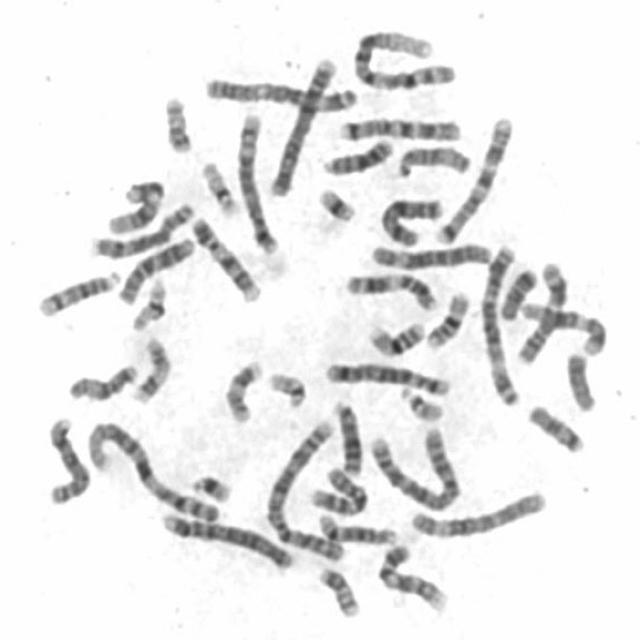A1: (80, 414, 224, 525), (348, 22, 460, 91)
A2: (260, 413, 348, 565), (362, 419, 464, 513)
A3: (474, 236, 525, 408), (197, 69, 360, 114)
B4: (261, 49, 339, 198), (155, 505, 297, 572)
B5: (230, 105, 282, 255), (318, 353, 453, 398)
C10: (112, 229, 197, 307), (302, 460, 371, 517)
C11: (510, 254, 570, 366), (339, 265, 441, 313)
C12: (515, 293, 608, 357), (101, 172, 167, 236)
C6: (404, 483, 549, 541), (363, 234, 494, 271)
C7: (428, 110, 516, 246), (333, 110, 464, 143)
C8: (84, 195, 197, 260), (39, 411, 93, 506)
C9: (184, 210, 263, 303), (371, 536, 451, 615)
D13: (316, 129, 396, 177), (326, 392, 364, 477)
D14: (31, 263, 124, 318), (312, 508, 400, 546)
D15: (62, 356, 141, 404), (389, 137, 474, 180)
E16: (419, 284, 472, 350), (361, 312, 428, 358)
E17: (125, 330, 174, 405), (218, 352, 266, 426)
E18: (521, 397, 587, 454), (494, 260, 540, 322)
F19: (195, 153, 241, 218), (125, 271, 168, 332)
F20: (312, 560, 362, 620), (156, 88, 195, 154)
G21: (311, 180, 359, 224), (185, 466, 234, 504)
G22: (393, 379, 446, 424), (261, 364, 309, 410)
X: (373, 189, 447, 249)
Y: (559, 345, 599, 413)
